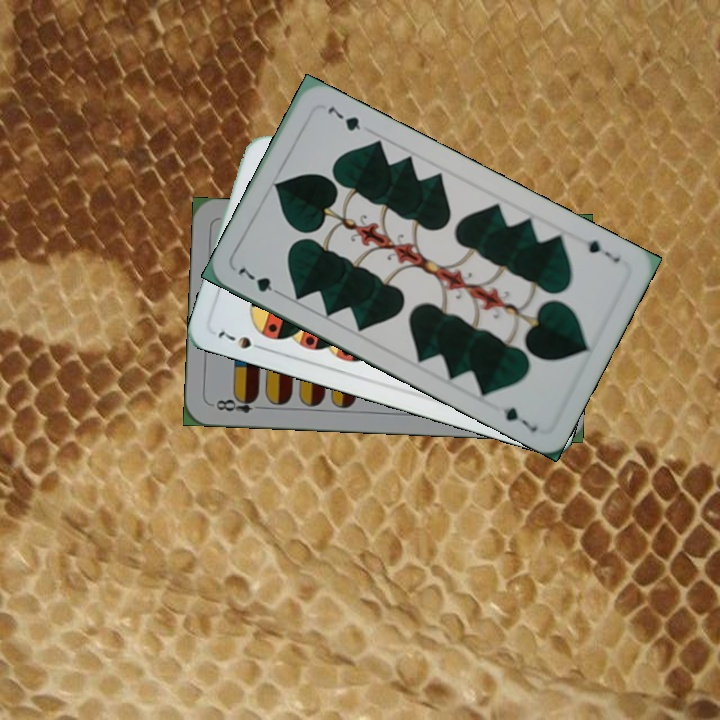E8: (212, 392, 268, 416)
G7: (232, 263, 287, 300), (583, 236, 623, 265)
S7: (214, 323, 269, 353)
